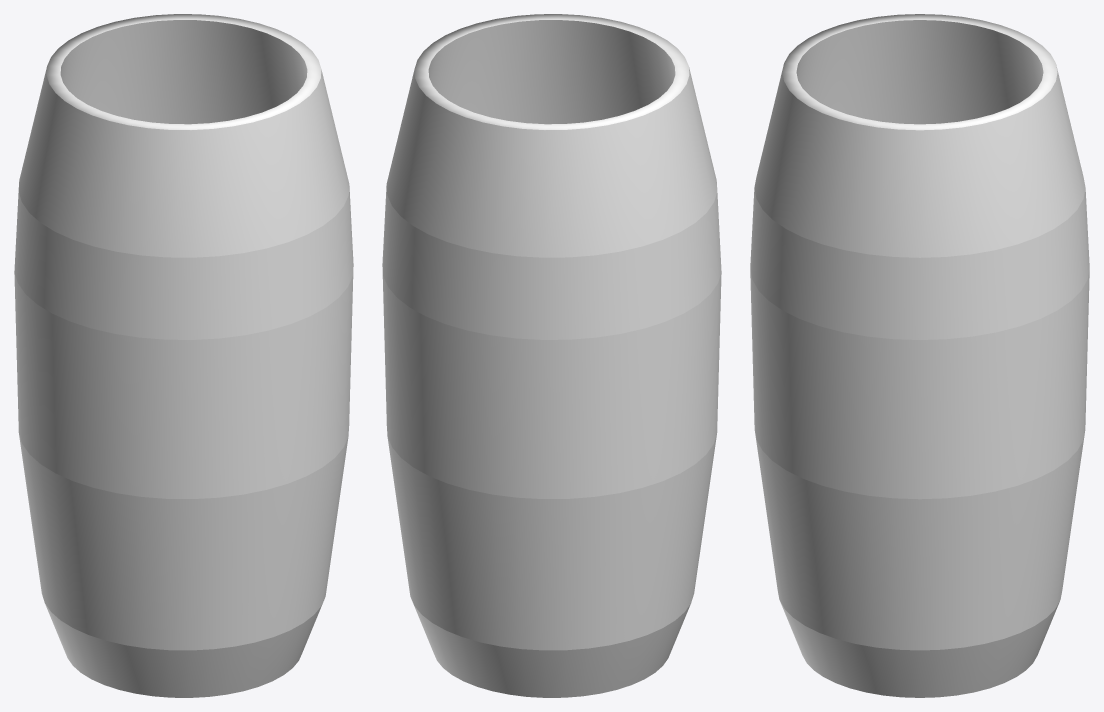
File: Vase4.fbx
The picture shows the model from 3 angles, left to right: view 1: azimuth 30°, elevation 25°; view 2: azimuth 150°, elevation 25°; view 3: azimuth 270°, elevation 25°; orthographic projection.
Parts seen in each view (by area): view 1: polySurface6, polySurface2, polySurface18, polySurface8, polySurface11, polySurface13, polySurface5, polySurface15, polySurface20; view 2: polySurface15, polySurface5, polySurface2, polySurface12, polySurface20, polySurface18, polySurface22, polySurface8, polySurface13; view 3: polySurface12, polySurface15, polySurface18, polySurface2, polySurface20, polySurface8.
Part boxes in pixels (bbox=[...]): polySurface6: bbox=[91, 248, 268, 650]; polySurface2: bbox=[14, 57, 219, 339]; polySurface18: bbox=[190, 43, 353, 489]; polySurface8: bbox=[45, 467, 322, 697]; polySurface11: bbox=[133, 20, 297, 124]; polySurface13: bbox=[52, 313, 106, 640]; polySurface5: bbox=[14, 272, 73, 627]; polySurface15: bbox=[284, 266, 353, 674]; polySurface20: bbox=[51, 14, 302, 119]; polySurface15: bbox=[413, 242, 569, 690]; polySurface5: bbox=[567, 294, 710, 650]; polySurface2: bbox=[566, 40, 721, 339]; polySurface12: bbox=[382, 69, 462, 636]; polySurface20: bbox=[414, 43, 587, 483]; polySurface18: bbox=[433, 14, 666, 124]; polySurface22: bbox=[481, 642, 609, 697]; polySurface8: bbox=[600, 604, 690, 693]; polySurface13: bbox=[685, 272, 721, 611]; polySurface12: bbox=[920, 90, 1082, 650]; polySurface15: bbox=[768, 189, 1089, 697]; polySurface18: bbox=[750, 46, 919, 460]; polySurface2: bbox=[797, 14, 1016, 124]; polySurface20: bbox=[920, 31, 1087, 450]; polySurface8: bbox=[754, 430, 813, 669].
Bounding box in the file's own units: 1.81 × 3.39 × 1.81.
1 material, 1 textured.
